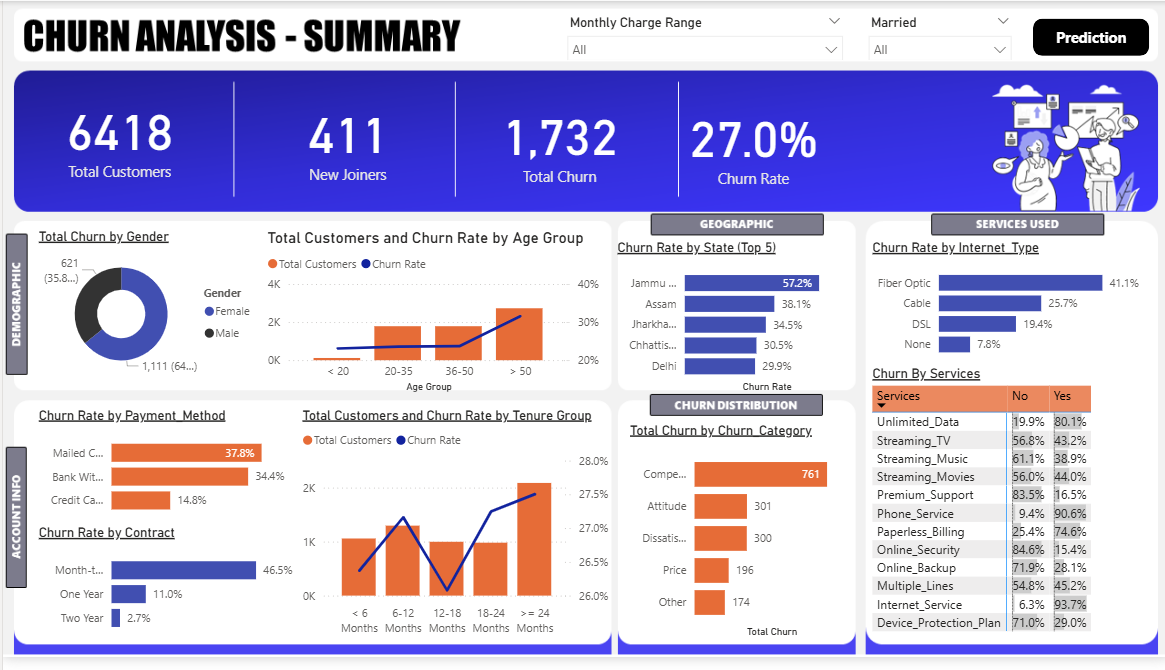

What the dashboard file says about the page in this screenshot:
{"tool":"powerbi","page":{"name":"Summary","canvas":[1280,720],"ordinal":0},"visuals":[{"type":"card","fields":{"Values":["tbl_Measures.Total Customers"]},"box":[24.7,86.4,207.2,124.9],"z":0},{"type":"card","fields":{"Values":["tbl_Measures.New Joiners"]},"box":[258,94.7,241.5,115.3],"z":1000},{"type":"card","fields":{"Values":["tbl_Measures.Total Churn"]},"box":[499.5,89.2,223.7,129],"z":2000},{"type":"card","fields":{"Values":["tbl_Measures.Churn Rate"]},"box":[741,100.2,166,112.5],"z":3000},{"type":"donutChart","fields":{"Category":["prod_Churn.Gender"],"Y":["tbl_Measures.Total Churn"]},"box":[33.8,249.7,252.1,171.3],"z":4000},{"type":"lineStackedColumnComboChart","fields":{"Category":["mapping_AgeGrp.Age Group"],"Y":["tbl_Measures.Total Customers"],"Y2":["tbl_Measures.Churn Rate"]},"box":[285.9,249.7,374,184.6],"z":5000},{"type":"clusteredBarChart","fields":{"Category":["prod_Churn.Payment_Method"],"Y":["tbl_Measures.Churn Rate"]},"box":[34.3,446,289.5,129],"z":6000},{"type":"clusteredBarChart","fields":{"Category":["prod_Churn.Contract"],"Y":["tbl_Measures.Churn Rate"]},"box":[34.3,575,289.5,129],"z":7000},{"type":"lineStackedColumnComboChart","fields":{"Category":["mapping_TenureGrp.Tenure Group"],"Y":["tbl_Measures.Total Customers"],"Y2":["tbl_Measures.Churn Rate"]},"box":[323.8,446,345.8,258],"z":8000},{"type":"clusteredBarChart","title":"Churn Rate by State (Top 5)","fields":{"Category":["prod_Churn.State"],"Y":["tbl_Measures.Churn Rate"]},"box":[669.6,261.8,265.4,172.5],"z":9000},{"type":"clusteredBarChart","fields":{"Category":["prod_Churn.Churn_Category"],"Y":["tbl_Measures.Total Churn"]},"box":[683.4,462.4,251.1,241.5],"z":10000},{"type":"clusteredBarChart","fields":{"Category":["prod_Churn.Internet_Type"],"Y":["tbl_Measures.Churn Rate"]},"box":[949.6,262.1,308.7,138.6],"z":11000},{"type":"pivotTable","title":"Churn By Services","fields":{"Rows":["prod_Services.Services"],"Columns":["prod_Services.Status"],"Values":["Sum(prod_Services.Churn Status)"]},"box":[949.6,400.7,308.7,303.3],"z":12000},{"type":"slicer","fields":{"Values":["prod_Churn.Monthly Charge Range"]},"box":[609.3,9.6,322.5,54.9],"z":13000},{"type":"slicer","fields":{"Values":["prod_Churn.Married"]},"box":[940,9.6,177,54.9],"z":14000},{"type":"shape","box":[1130.7,19.2,127.6,41.2],"z":15000}]}

Visuals, with their boxes in screenshot pixels (x1, y1, x2, y2), scaled from the page's 1280x720 canvas onto the 1165x670 screenshot:
card - tbl_Measures.Total Customers: box=[22, 80, 211, 197]
card - tbl_Measures.New Joiners: box=[235, 88, 455, 195]
card - tbl_Measures.Total Churn: box=[455, 83, 658, 203]
card - tbl_Measures.Churn Rate: box=[674, 93, 826, 198]
donutChart - prod_Churn.Gender x tbl_Measures.Total Churn: box=[31, 232, 260, 392]
lineStackedColumnComboChart - mapping_AgeGrp.Age Group x tbl_Measures.Total Customers: box=[260, 232, 601, 404]
clusteredBarChart - prod_Churn.Payment_Method x tbl_Measures.Churn Rate: box=[31, 415, 295, 535]
clusteredBarChart - prod_Churn.Contract x tbl_Measures.Churn Rate: box=[31, 535, 295, 655]
lineStackedColumnComboChart - mapping_TenureGrp.Tenure Group x tbl_Measures.Total Customers: box=[295, 415, 609, 655]
"Churn Rate by State (Top 5)" clusteredBarChart: box=[609, 244, 851, 404]
clusteredBarChart - prod_Churn.Churn_Category x tbl_Measures.Total Churn: box=[622, 430, 851, 655]
clusteredBarChart - prod_Churn.Internet_Type x tbl_Measures.Churn Rate: box=[864, 244, 1145, 373]
"Churn By Services" pivotTable: box=[864, 373, 1145, 655]
slicer - prod_Churn.Monthly Charge Range: box=[555, 9, 848, 60]
slicer - prod_Churn.Married: box=[856, 9, 1017, 60]
shape: box=[1029, 18, 1145, 56]
